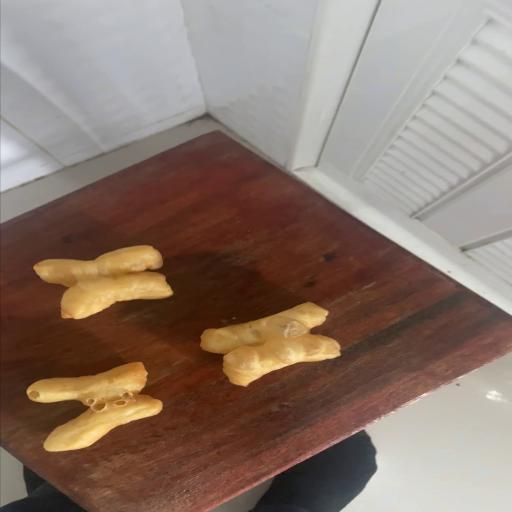street_golden_defect: (27, 363, 163, 450), (205, 303, 338, 385)
street_golden_good: (29, 246, 172, 320)
